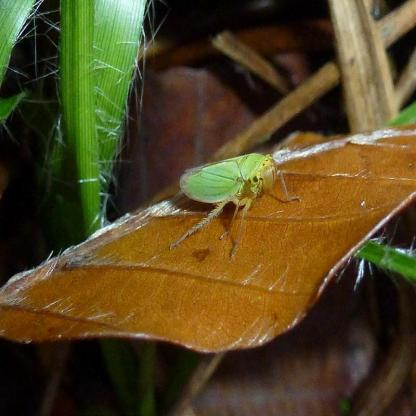Green-Leafhopper: (176, 150, 296, 267)
